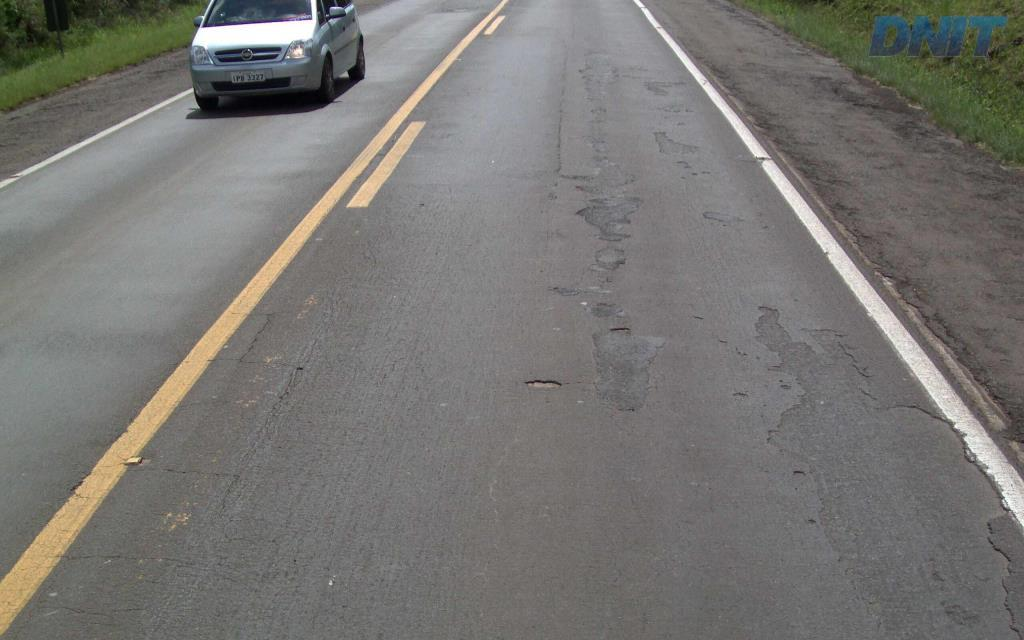pothole: (739, 295, 1022, 638), (647, 130, 708, 157), (515, 373, 568, 391), (605, 322, 639, 336)
